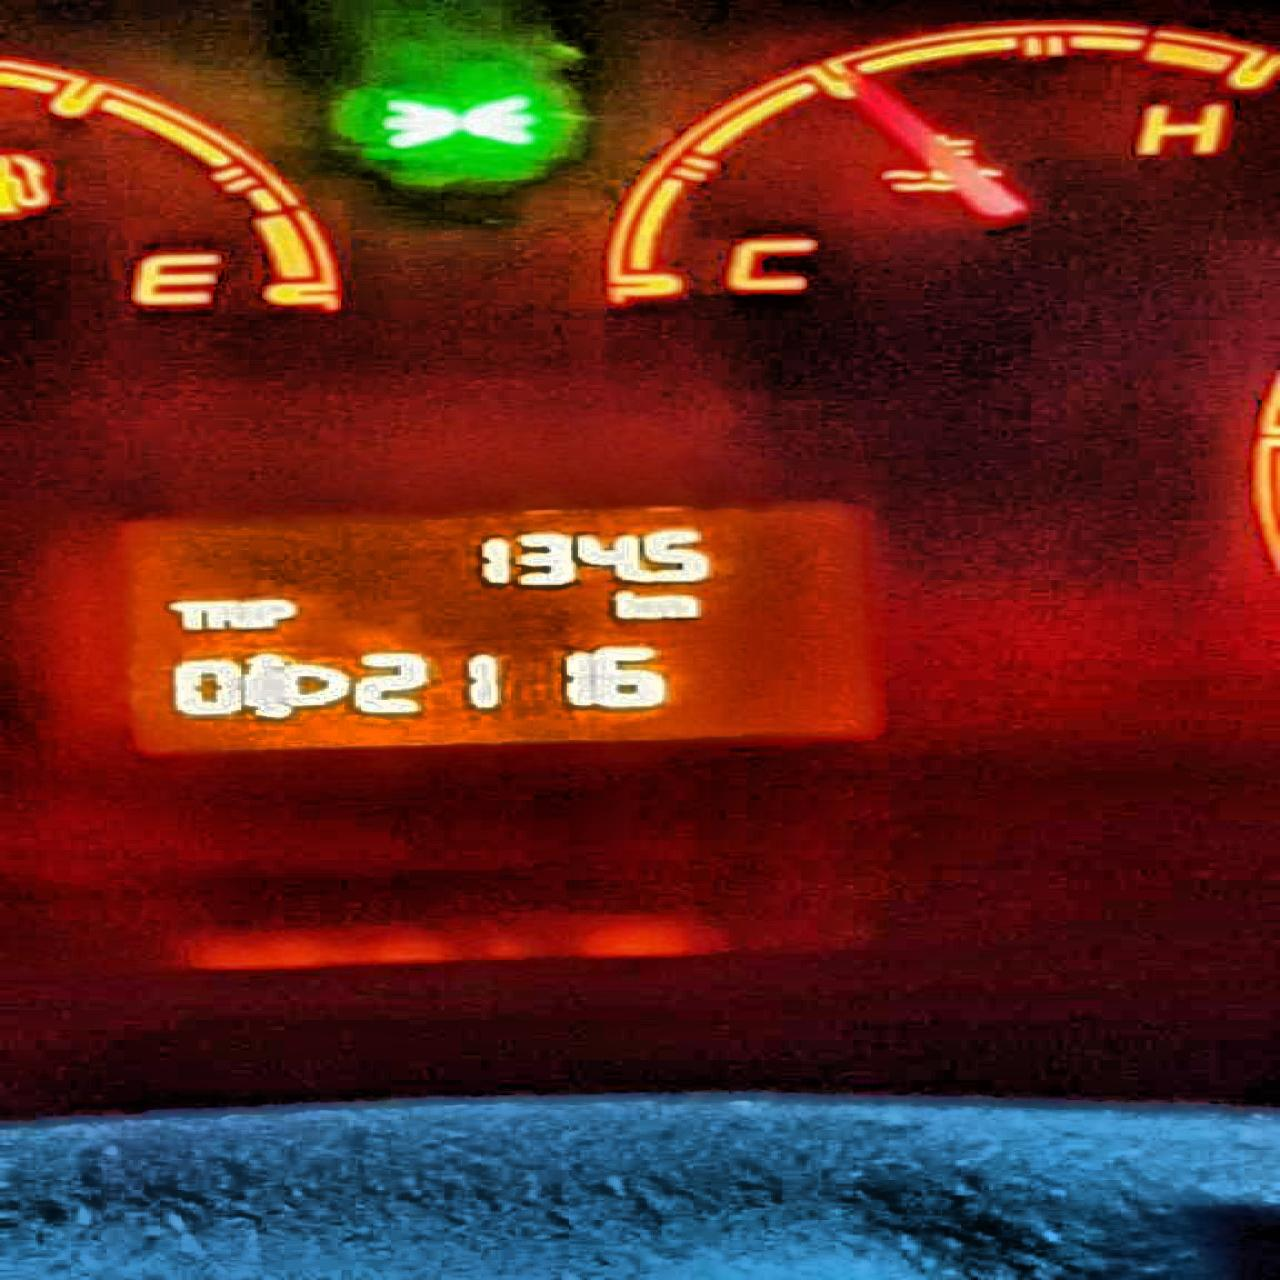-: (635, 564, 652, 585)
0: (169, 654, 238, 719)
1: (461, 647, 506, 714), (474, 530, 513, 587), (565, 644, 595, 713)
2: (354, 646, 436, 719)
3: (518, 527, 571, 587)
4: (573, 531, 638, 581)
5: (642, 524, 716, 583)
6: (593, 642, 670, 708)
X: (610, 587, 647, 624), (647, 595, 702, 620), (260, 595, 298, 629), (164, 599, 203, 632), (204, 597, 236, 628), (240, 595, 260, 629)
odometer: (96, 492, 911, 777)
